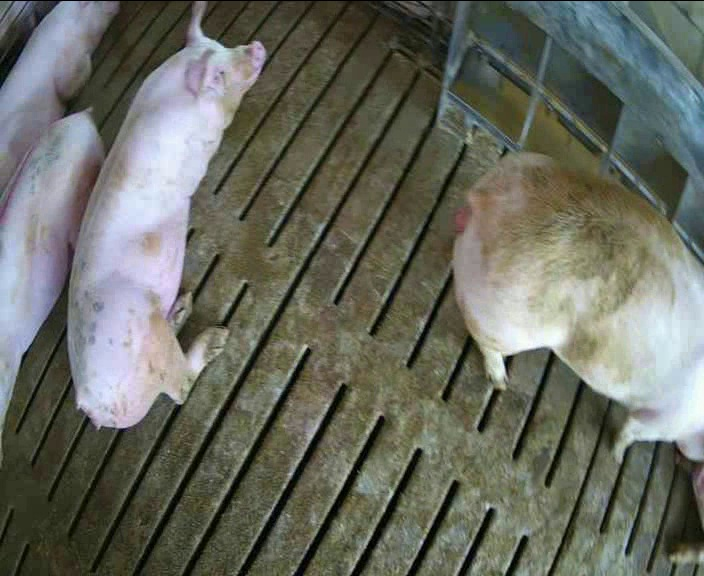pig: (68, 3, 265, 427), (453, 154, 703, 460), (0, 111, 103, 431), (0, 2, 118, 194)
